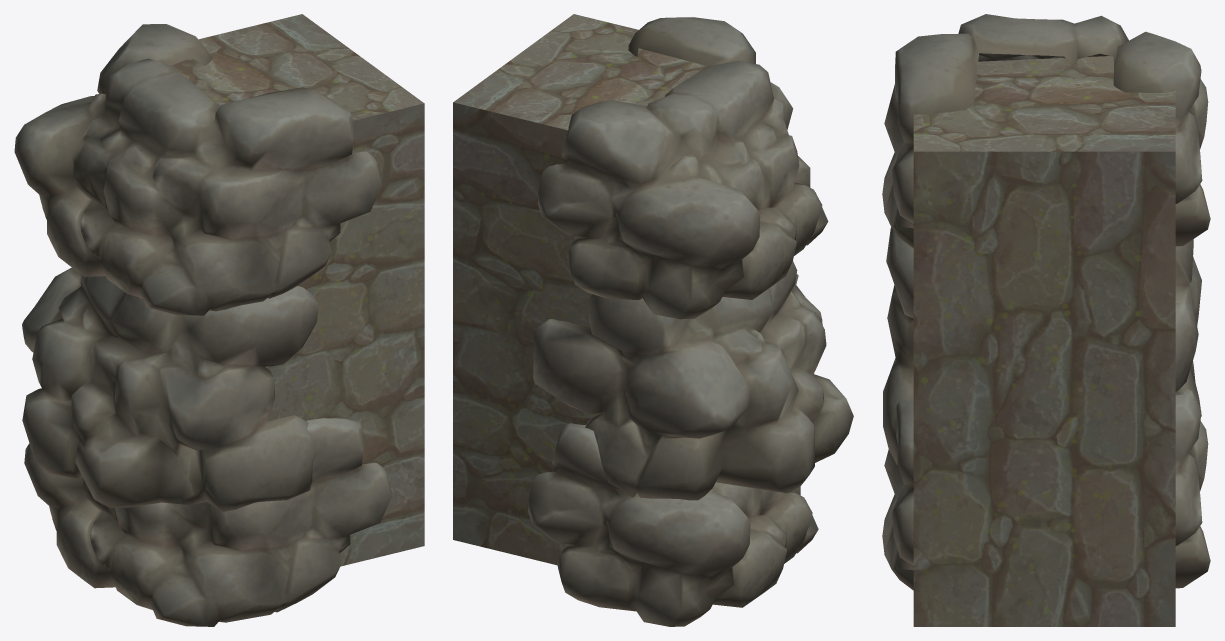
File: MSH_fwOF_Ruins_Wall_Half_Low_End_02.fbx
3 views of the same model, side by side, from view 1: azimuth 30°, elevation 25°; view 2: azimuth 150°, elevation 25°; view 3: azimuth 270°, elevation 25° (orthographic). The views are drawn at different scales.
Visible parts, largest first — view 1: MSH_fwOF_Ruins_Wall_Half_Low_End_02_LOD0, MSH_fwOF_Ruins_Wall_Half_Low_End_02_Base; view 2: MSH_fwOF_Ruins_Wall_Half_Low_End_02_LOD0, MSH_fwOF_Ruins_Wall_Half_Low_End_02_Base; view 3: MSH_fwOF_Ruins_Wall_Half_Low_End_02_Base, MSH_fwOF_Ruins_Wall_Half_Low_End_02_LOD0.
Part boxes in pixels (x1=…): MSH_fwOF_Ruins_Wall_Half_Low_End_02_LOD0: x1=14, y1=24, x2=391, y2=626; MSH_fwOF_Ruins_Wall_Half_Low_End_02_Base: x1=172, y1=14, x2=424, y2=566; MSH_fwOF_Ruins_Wall_Half_Low_End_02_LOD0: x1=528, y1=17, x2=853, y2=626; MSH_fwOF_Ruins_Wall_Half_Low_End_02_Base: x1=453, y1=14, x2=707, y2=565; MSH_fwOF_Ruins_Wall_Half_Low_End_02_Base: x1=913, y1=56, x2=1175, y2=626; MSH_fwOF_Ruins_Wall_Half_Low_End_02_LOD0: x1=882, y1=14, x2=1210, y2=590.
Size of what is drawn, in the model's own units: 1.49 by 2.26 by 1.25.
